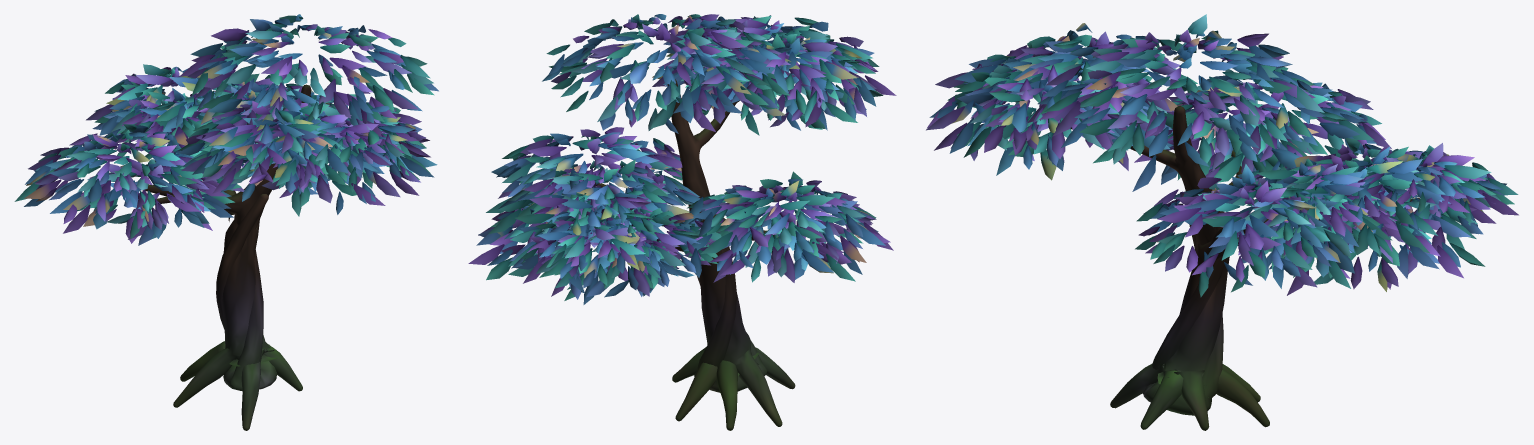
Rendered from tree_teal.glb.
3 renders of one model, left to right at view 1: azimuth 30°, elevation 25°; view 2: azimuth 150°, elevation 25°; view 3: azimuth 270°, elevation 25°, orthographic. The views are drawn at different scales.
Visible parts, largest first — view 1: tree_teal; view 2: tree_teal; view 3: tree_teal.
Part boxes in pixels (x1=…): tree_teal: x1=14, y1=14, x2=438, y2=430; tree_teal: x1=468, y1=14, x2=896, y2=430; tree_teal: x1=926, y1=14, x2=1518, y2=430.
Size of the model in its own units: 7.24 by 6.71 by 8.67.
